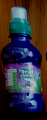blueberries: (4, 6, 44, 115)
